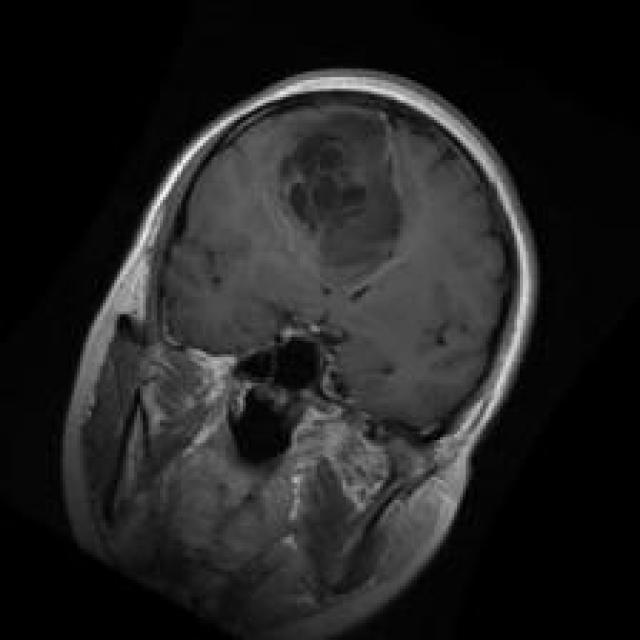glioma_tumor: (269, 91, 418, 310)
